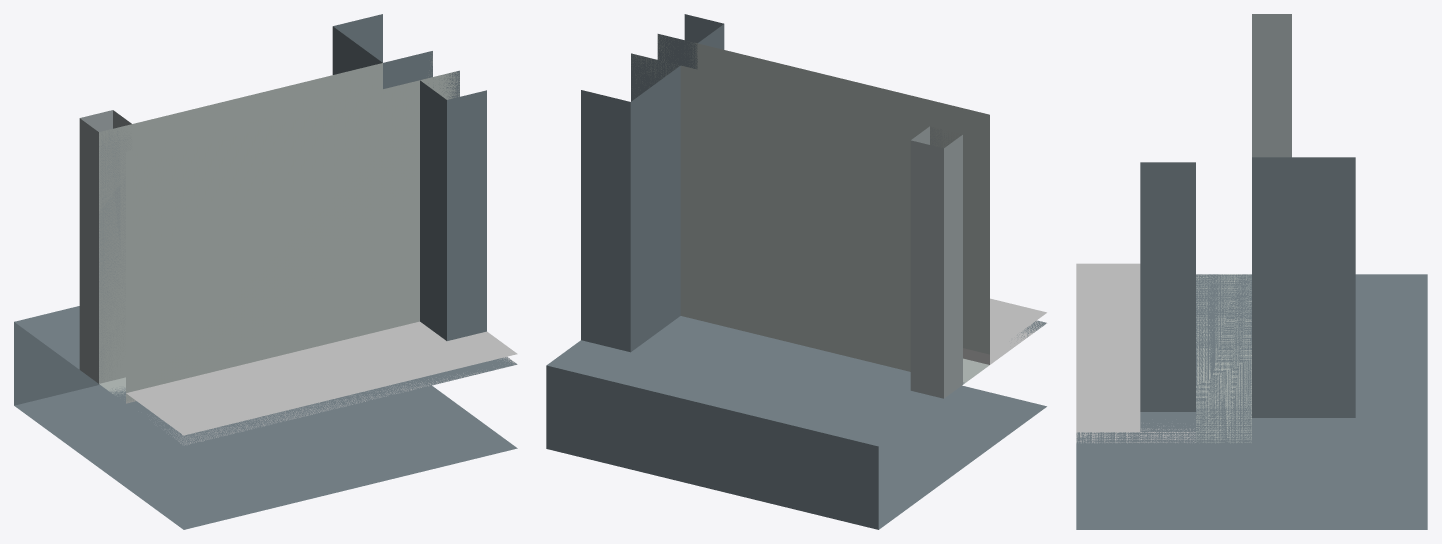
File: cell_2.obj
The picture shows the model from 3 angles, left to right: view 1: azimuth 30°, elevation 25°; view 2: azimuth 150°, elevation 25°; view 3: azimuth 270°, elevation 25°; orthographic projection. The views are drawn at different scales.
Size of the model in its own units: 1 by 0.96 by 0.88.
